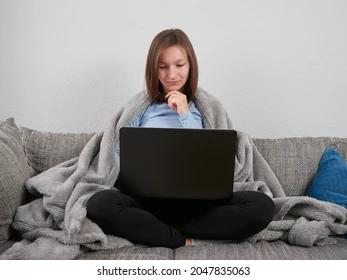blanket: (0, 81, 347, 261)
long sleeve shirt: (116, 100, 208, 155)
trousers: (86, 187, 276, 250)
